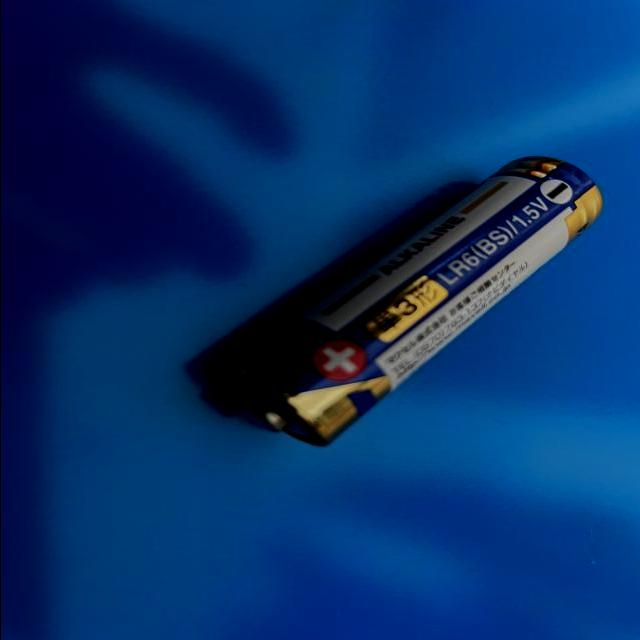AA: (190, 148, 603, 448)
